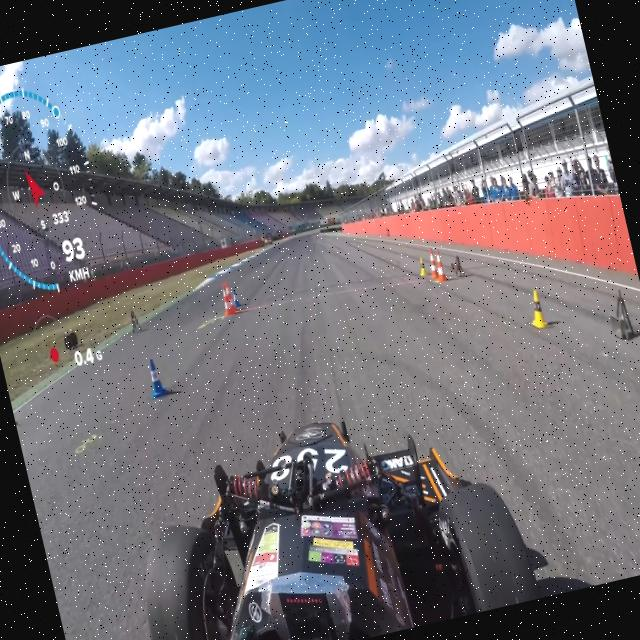blue_cone: (132, 344, 166, 403)
large_orange_cone: (418, 240, 449, 288), (206, 271, 240, 313)
yellow_cone: (524, 280, 560, 332)
